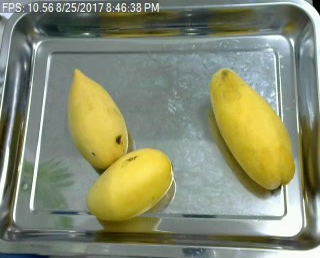Mango: (210, 64, 303, 193), (60, 65, 135, 172), (80, 146, 175, 226)
